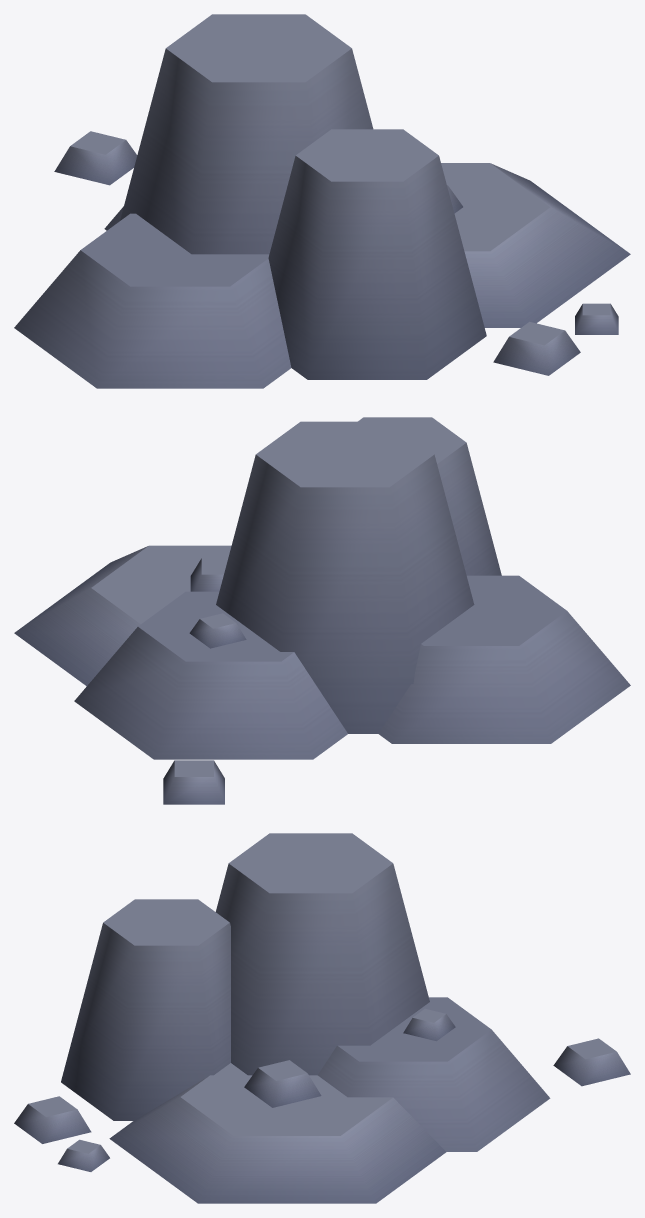
The model's file is rocks-large.obj.
3 renders of one model, top to bottom at view 1: azimuth 30°, elevation 25°; view 2: azimuth 150°, elevation 25°; view 3: azimuth 270°, elevation 25°, orthographic. The views are drawn at different scales.
Visible parts, largest first — view 1: rocks-large; view 2: rocks-large; view 3: rocks-large.
Part boxes in pixels (x1=…): rocks-large: x1=14, y1=14, x2=630, y2=388; rocks-large: x1=14, y1=417, x2=630, y2=804; rocks-large: x1=14, y1=833, x2=630, y2=1203.
Bounding box in the file's own units: 1.2 × 0.5 × 1.35.
1 material, 1 textured.
